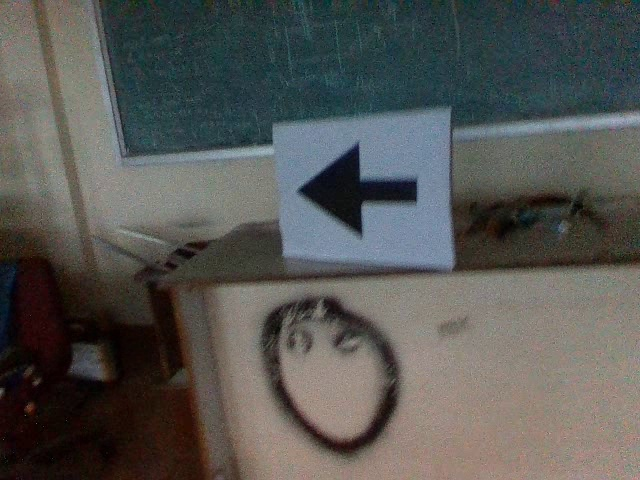Left: (292, 138, 423, 240)
